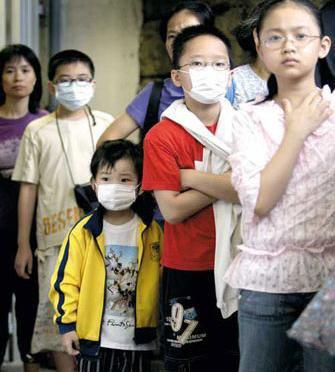NONE: (266, 23, 319, 78), (4, 63, 35, 98)
OK: (186, 53, 238, 105), (97, 170, 136, 209), (54, 72, 91, 109)
